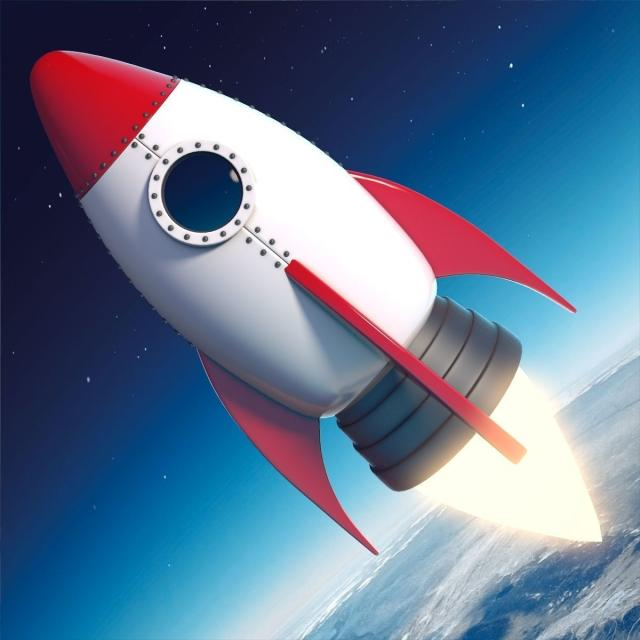medium_debris: (389, 360, 604, 548)
rocket: (23, 32, 585, 565)
